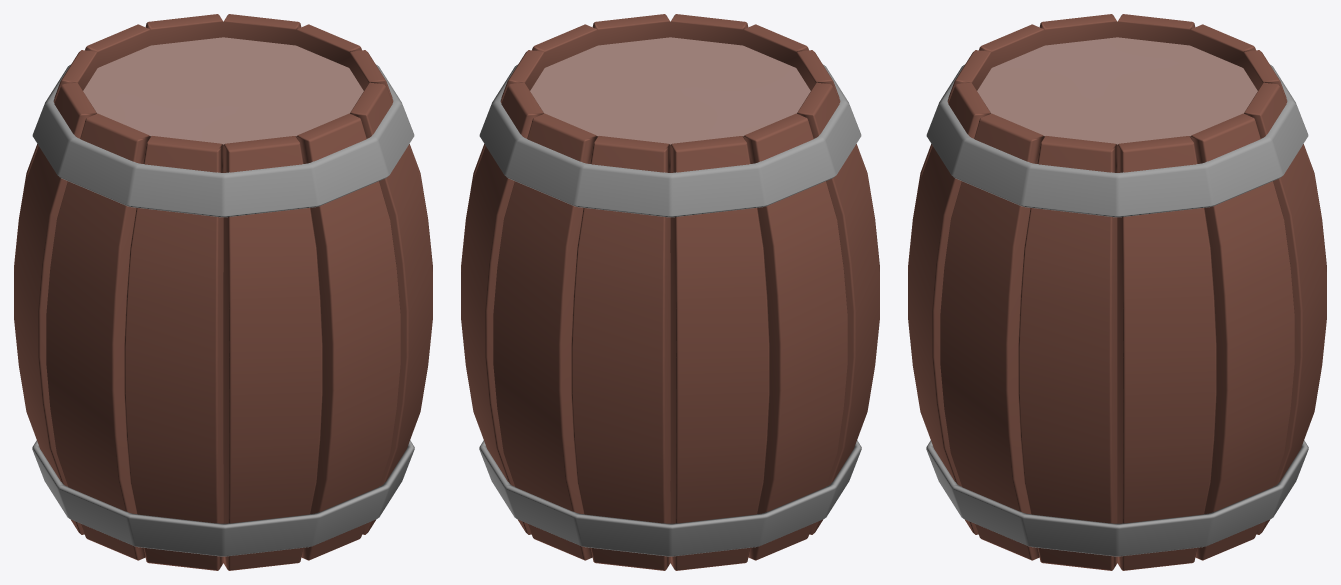
File: Store_16_Barrel_1.glb
3 views of the same model, side by side, from view 1: azimuth 30°, elevation 25°; view 2: azimuth 150°, elevation 25°; view 3: azimuth 270°, elevation 25° (orthographic).
Parts seen in each view (by area): view 1: Store_16_Barrel_1; view 2: Store_16_Barrel_1; view 3: Store_16_Barrel_1.
Boxes of the visible parts, bbox=[...] form: Store_16_Barrel_1: bbox=[14, 14, 432, 570]; Store_16_Barrel_1: bbox=[461, 14, 879, 570]; Store_16_Barrel_1: bbox=[908, 14, 1326, 570].
Bounding box in the file's own units: 0.3817 × 0.4236 × 0.3817.
1 material, 1 textured.
